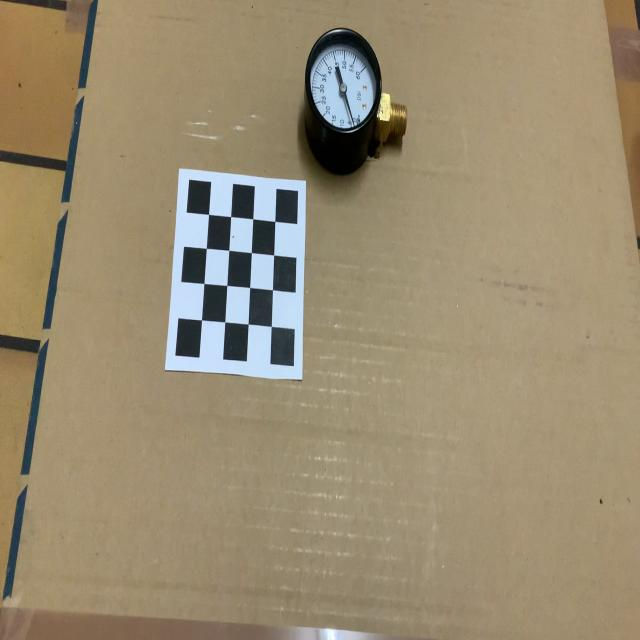gauge: (306, 28, 382, 134)
